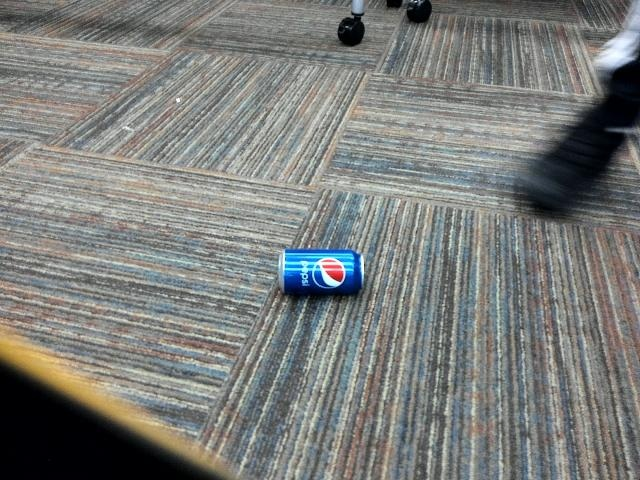can: (273, 243, 366, 298)
